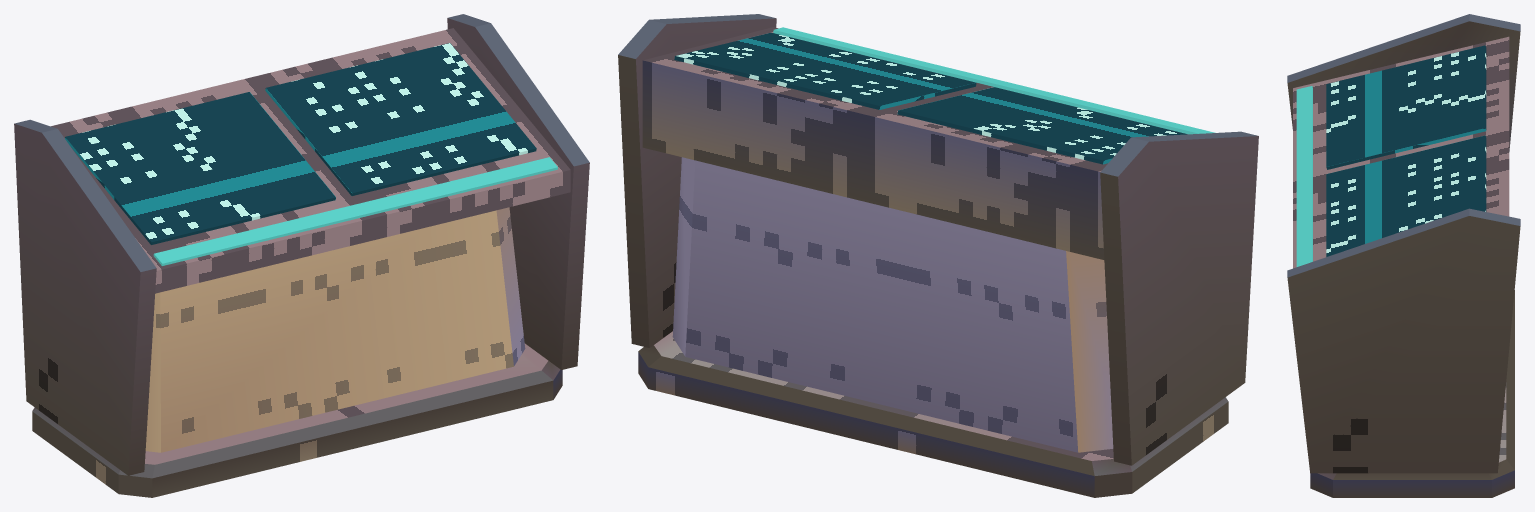
File: tech.console.glb
The picture shows the model from 3 angles, left to right: view 1: azimuth 30°, elevation 25°; view 2: azimuth 150°, elevation 25°; view 3: azimuth 270°, elevation 25°; orthographic projection. The views are drawn at different scales.
Visible parts, largest first — view 1: kit_body, kit_fins, kit_screens, kit_desk, kit_plinth, kit_strip; view 2: kit_body, kit_fins, kit_desk, kit_plinth, kit_screens, kit_strip; view 3: kit_fins, kit_screens, kit_desk, kit_plinth, kit_strip.
Part boxes in pixels (x1,y1,x2,y2): kit_body: (145, 207, 525, 452); kit_fins: (14, 14, 589, 475); kit_screens: (65, 43, 536, 244); kit_desk: (51, 28, 570, 293); kit_plinth: (32, 343, 562, 497); kit_strip: (153, 157, 557, 265); kit_body: (672, 157, 1113, 452); kit_fins: (618, 14, 1258, 465); kit_desk: (642, 27, 1107, 259); kit_plinth: (638, 331, 1228, 497); kit_screens: (674, 32, 1186, 164); kit_strip: (773, 27, 1215, 134); kit_fins: (1287, 14, 1520, 473); kit_screens: (1326, 45, 1486, 256); kit_desk: (1293, 36, 1509, 268); kit_plinth: (1310, 290, 1514, 497); kit_strip: (1296, 86, 1312, 266).
Size of the model in its own units: 1.68 by 1.1 by 0.82.
6 materials, 6 textured.
